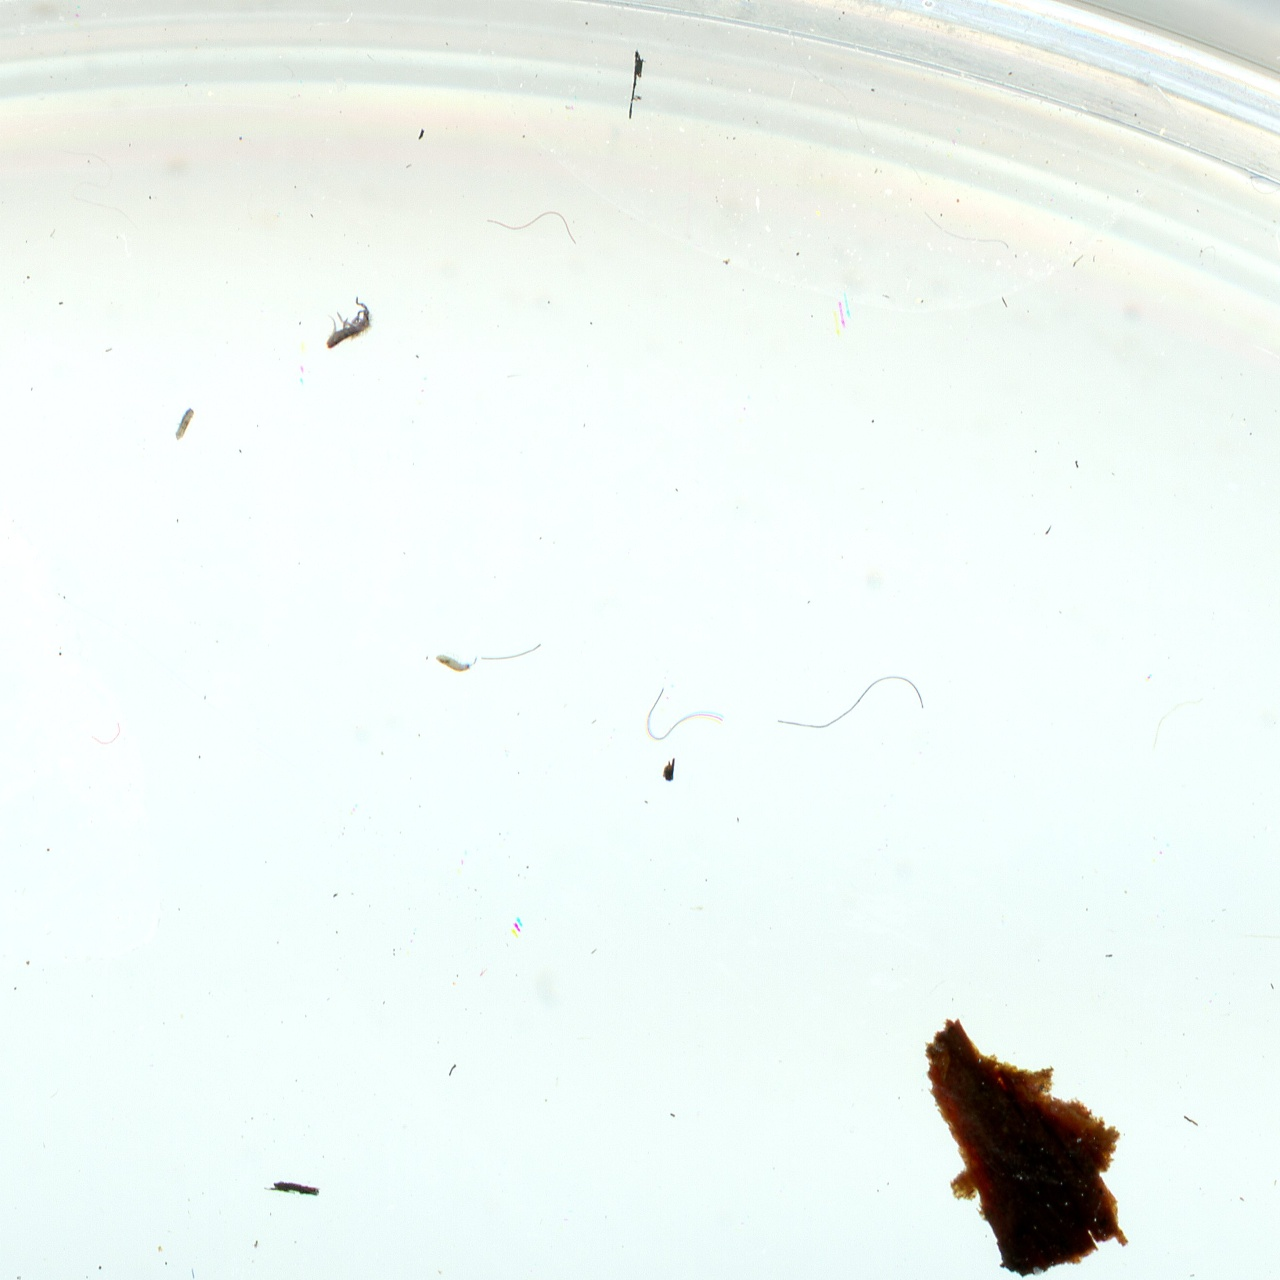arthropod: (324, 294, 381, 355), (415, 648, 483, 674)
